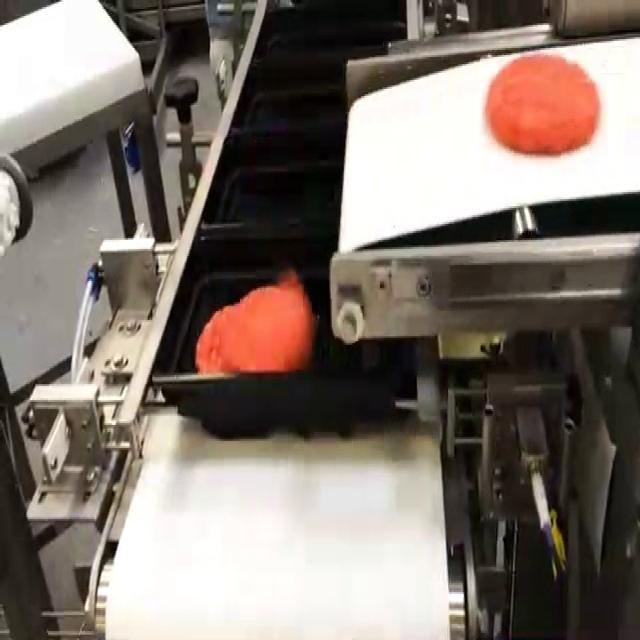hamburguer: (485, 55, 599, 153)
